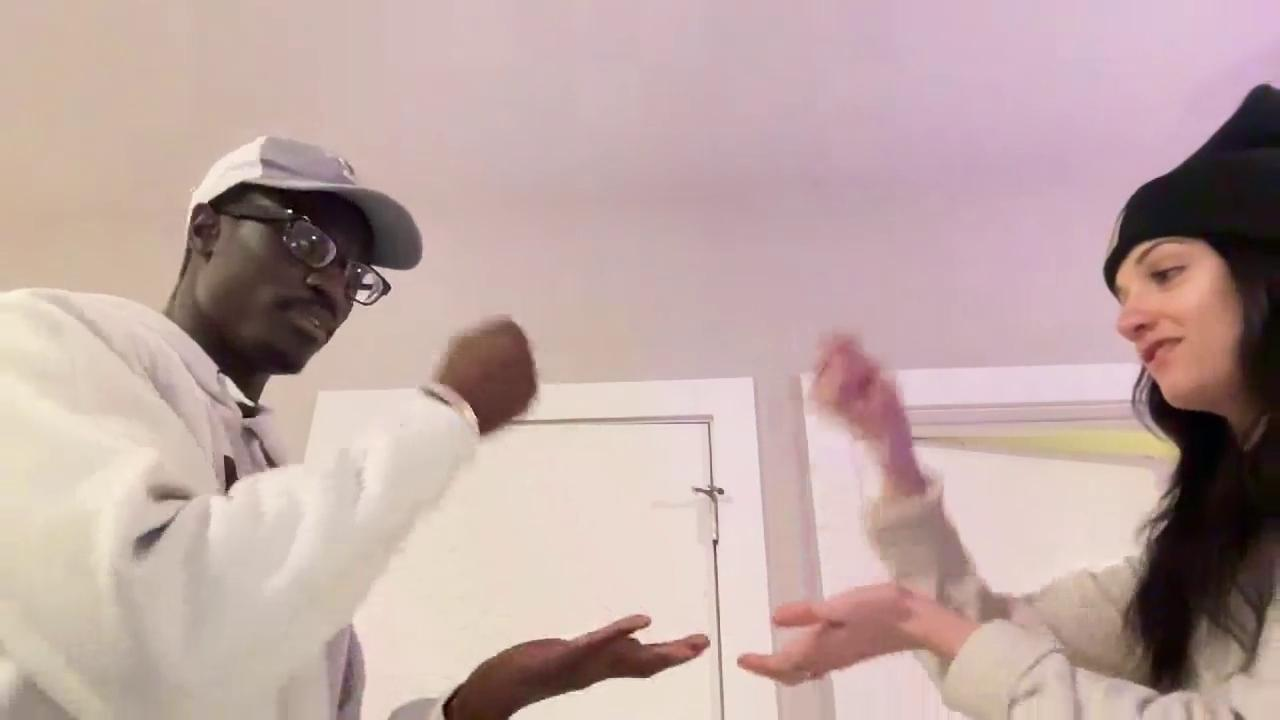Rock: (453, 317, 541, 429), (813, 337, 903, 436)
